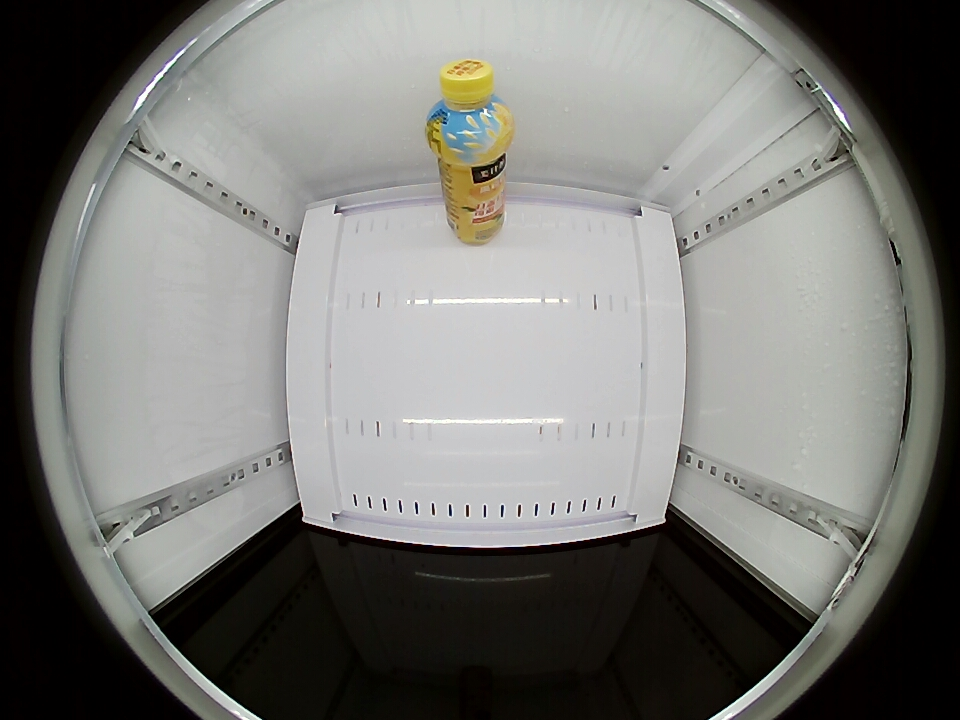guolicheng: (426, 60, 514, 161)
